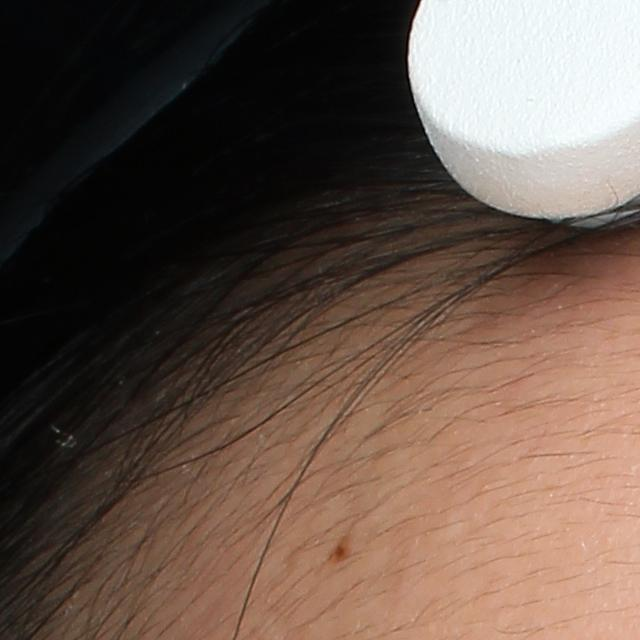nevus: (328, 532, 353, 563)
